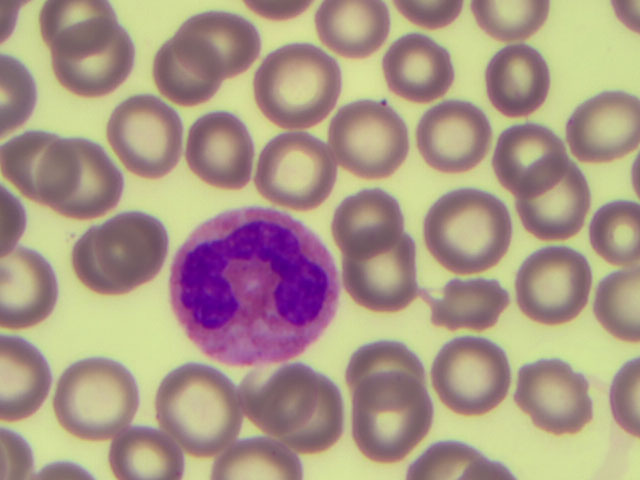RBC: (154, 368, 246, 448), (424, 193, 516, 272), (78, 217, 165, 296), (55, 362, 142, 440), (103, 99, 186, 179), (46, 140, 130, 218), (260, 48, 341, 124), (333, 100, 412, 175), (346, 232, 421, 310), (357, 378, 430, 458), (517, 359, 597, 432), (519, 246, 593, 323), (259, 134, 337, 205), (283, 372, 351, 453), (54, 27, 137, 93), (416, 277, 512, 334), (414, 102, 492, 172), (437, 340, 510, 411), (563, 90, 640, 157), (489, 41, 557, 116), (157, 31, 226, 103), (497, 126, 569, 195), (238, 368, 319, 429), (5, 135, 82, 199), (347, 341, 430, 400), (528, 158, 588, 239), (1, 334, 54, 422), (337, 191, 405, 259), (192, 113, 252, 188), (2, 249, 60, 326), (178, 19, 257, 75), (317, 1, 392, 54), (113, 426, 186, 480), (209, 439, 304, 480), (411, 443, 516, 480), (37, 4, 125, 48), (387, 37, 450, 98), (597, 272, 640, 344), (2, 52, 34, 143), (473, 1, 551, 35), (599, 205, 640, 267), (400, 1, 467, 34), (614, 364, 640, 436), (4, 426, 37, 480), (253, 1, 305, 28), (1, 183, 19, 252), (40, 462, 92, 480)
WBC: (174, 211, 335, 362), (613, 1, 640, 33)
